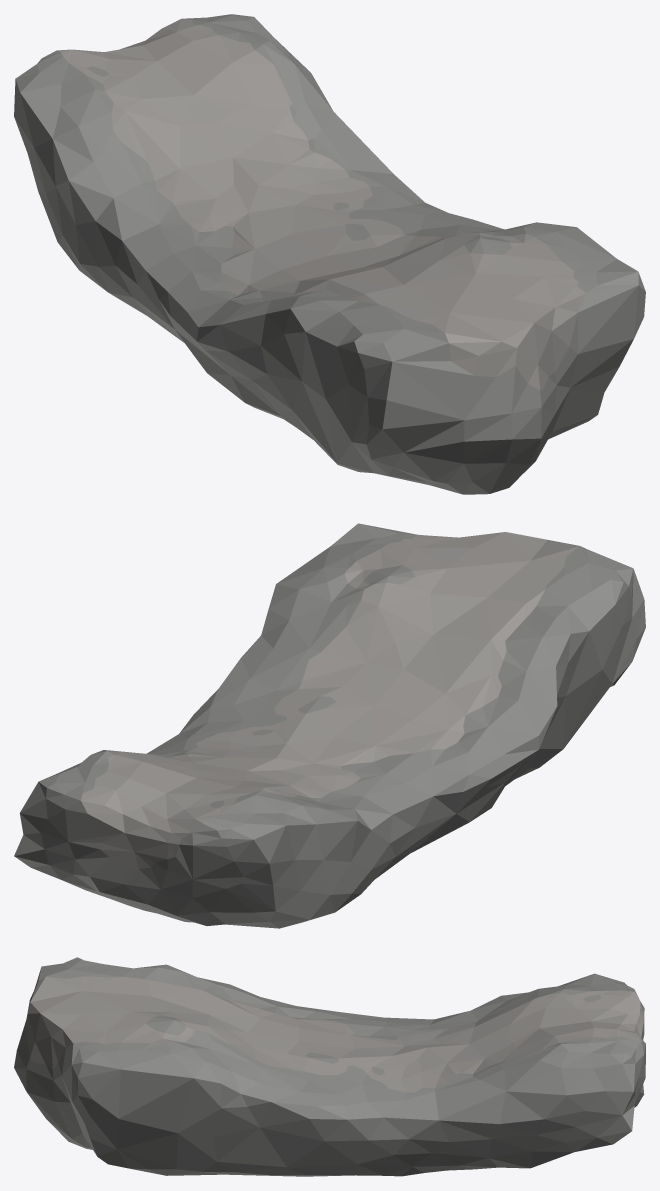
Rendered from Cavern_Floor_Narrow_Dip-01.fbx.
The picture shows the model from 3 angles, top to bottom: view 1: azimuth 30°, elevation 25°; view 2: azimuth 150°, elevation 25°; view 3: azimuth 270°, elevation 25°; orthographic projection. The views are drawn at different scales.
Visible parts, largest first — view 1: Cavern_Floor_Narrow_Dip-01; view 2: Cavern_Floor_Narrow_Dip-01; view 3: Cavern_Floor_Narrow_Dip-01.
Boxes of the visible parts, x1,y1,x2,y2 form: Cavern_Floor_Narrow_Dip-01: [14, 14, 645, 494]; Cavern_Floor_Narrow_Dip-01: [14, 523, 645, 928]; Cavern_Floor_Narrow_Dip-01: [14, 957, 645, 1176].
Size of the model in its own units: 857 by 477 by 1912.
1 material, 1 textured.
